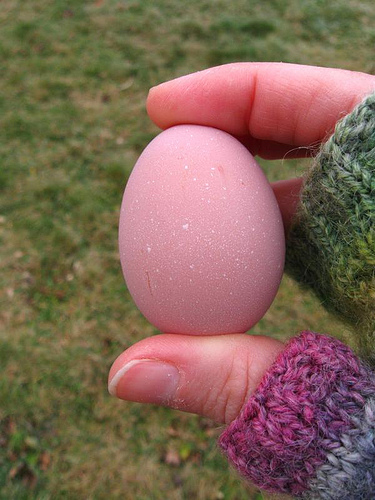egg: (116, 123, 286, 335)
